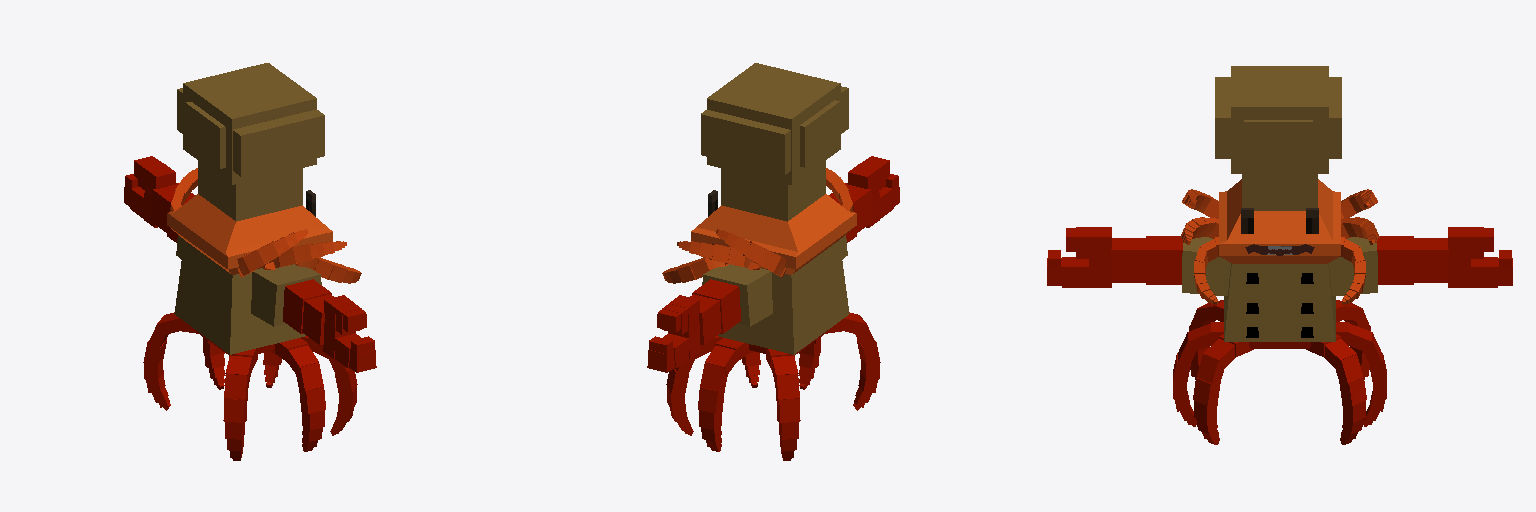
3 views of the same model, side by side, from view 1: azimuth 30°, elevation 25°; view 2: azimuth 150°, elevation 25°; view 3: azimuth 270°, elevation 25° (orthographic).
Visible parts, largest first — view 1: Cube1, Cube0011, Cube0021; view 2: Cube1, Cube0011, Cube0021; view 3: Cube1, Cube0011, Cube0021, Cube0041.
Part boxes in pixels (bbox=[...]): Cube1: bbox=[174, 63, 324, 354]; Cube0011: bbox=[124, 156, 376, 460]; Cube0021: bbox=[167, 168, 361, 283]; Cube1: bbox=[701, 63, 849, 354]; Cube0011: bbox=[647, 156, 899, 460]; Cube0021: bbox=[662, 168, 856, 283]; Cube1: bbox=[1182, 66, 1377, 341]; Cube0011: bbox=[1047, 227, 1512, 444]; Cube0021: bbox=[1180, 179, 1379, 304]; Cube0041: bbox=[1246, 273, 1313, 337].
Bounding box in the file's own units: 3.48 × 7.62 × 9.66.
Materials: 4 (1 with a texture image).